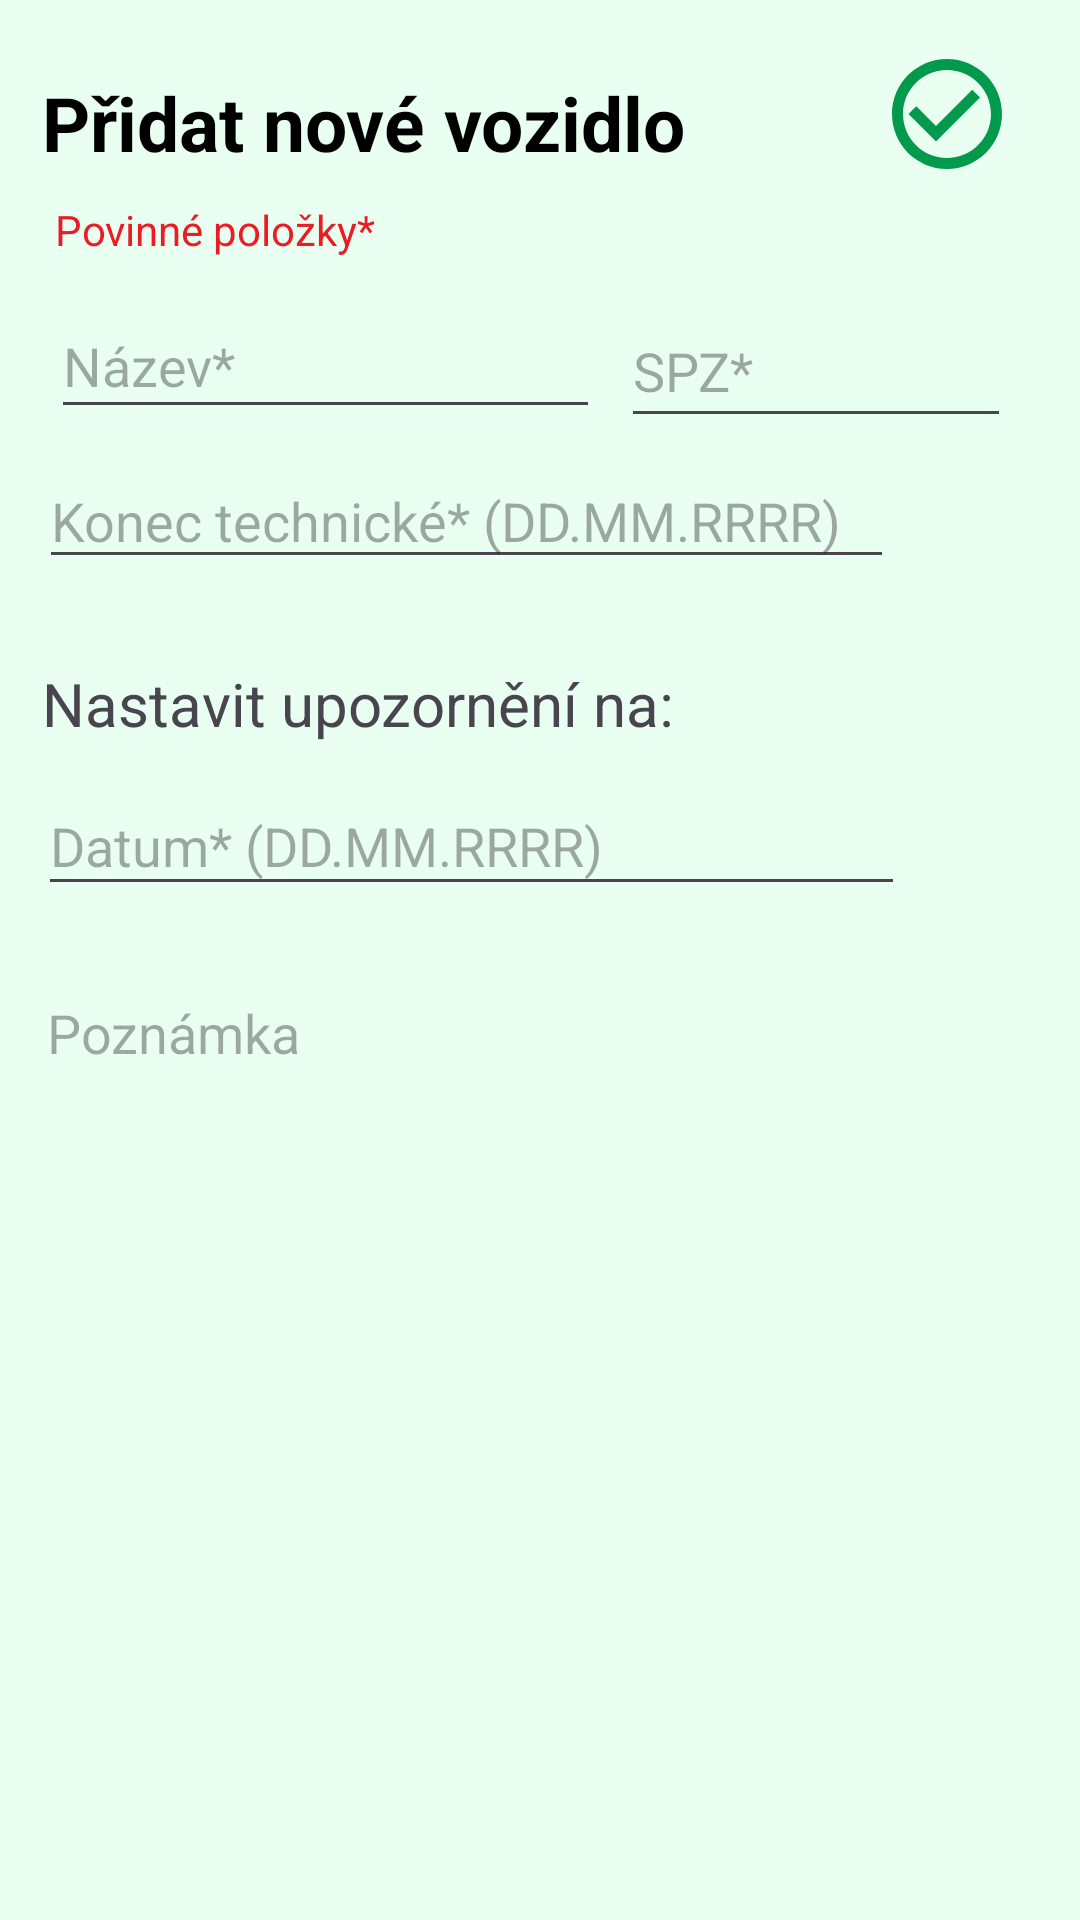

Icons on this 1080x1920 Android screen, each with the point to tap as point (x, y):
check circle: point (947, 114)
